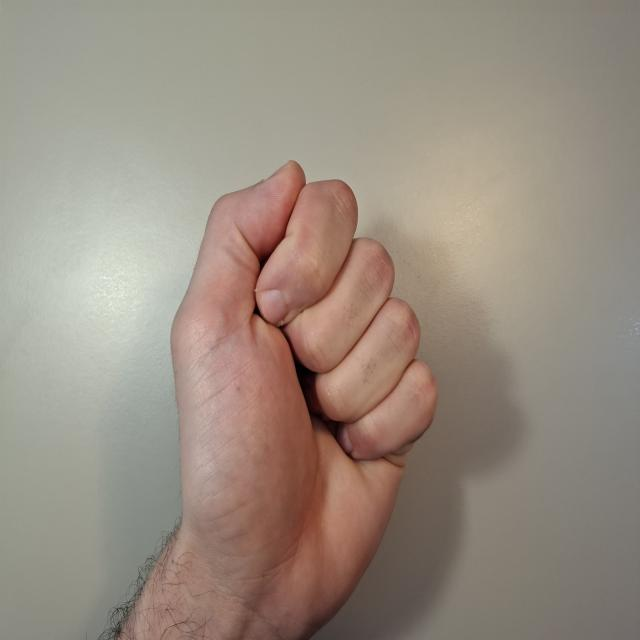glove_off: (168, 155, 440, 637)
